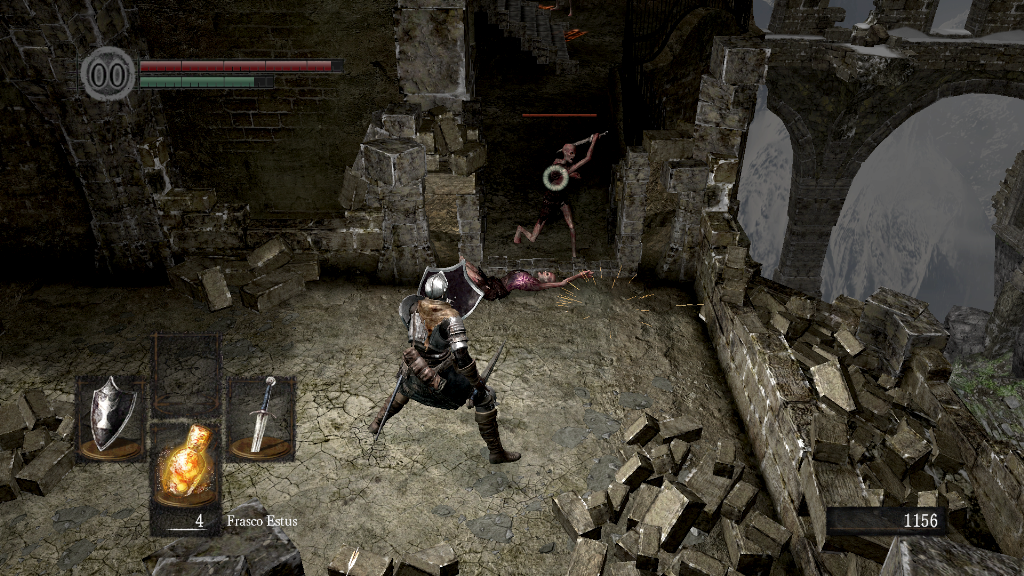health: (138, 58, 343, 71)
hollow: (507, 132, 601, 265)
humanity: (80, 45, 136, 102)
player: (368, 258, 522, 464)
souls: (825, 506, 945, 536)
stamina: (138, 74, 274, 88)
